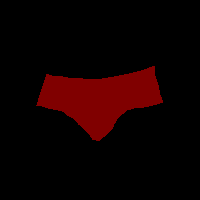mutande: (36, 65, 163, 141)
